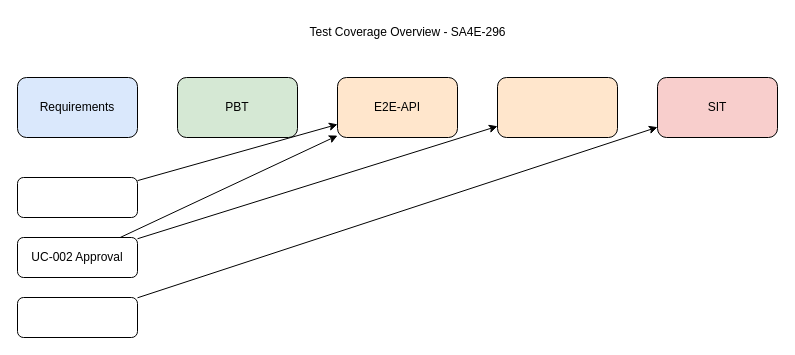
The diagram is 795 pixels wide and 355 high, and some of its shapes have lost their labels. Here are the shapes that lost their labels. From the top down, the centre of each, then its label:
At point (557, 107): "E2E-UI".
At point (77, 197): "UC-001 Integration".
At point (77, 317): "UC-003 Validation".
